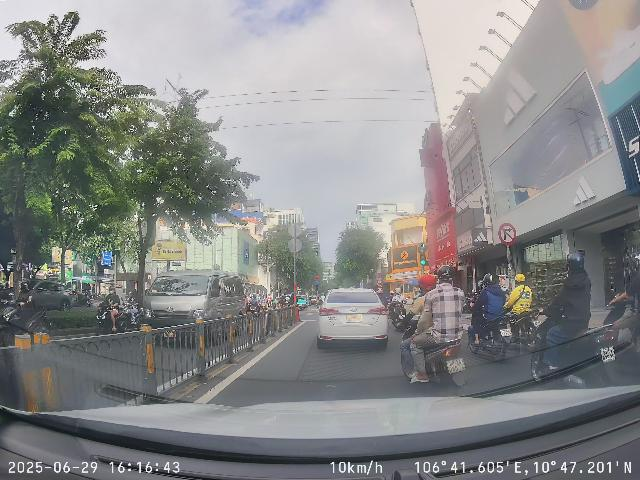123b-cam-re-phai: (498, 222, 517, 245)
